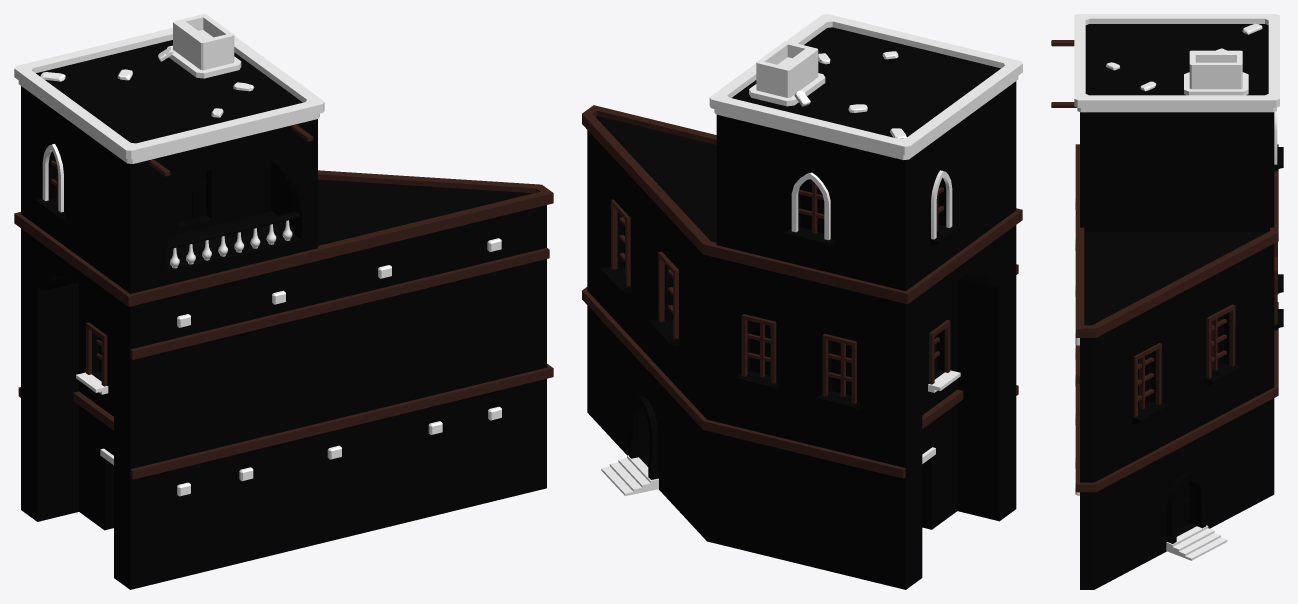
Rendered from civilian_house_03.FBX.
3 renders of one model, left to right at view 1: azimuth 30°, elevation 25°; view 2: azimuth 150°, elevation 25°; view 3: azimuth 270°, elevation 25°, orthographic. The views are drawn at different scales.
Visible parts, largest first — view 1: civilian_house_03; view 2: civilian_house_03; view 3: civilian_house_03.
Part boxes in pixels (x1,y1,x2,y2): civilian_house_03: (14,14,553,589); civilian_house_03: (582,14,1022,589); civilian_house_03: (1051,14,1283,589).
Bounding box in the file's own units: 1548 × 1614 × 814.
